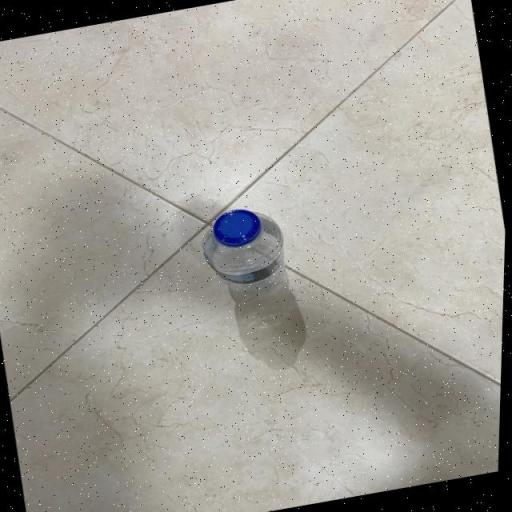plastic: (195, 198, 308, 348)
